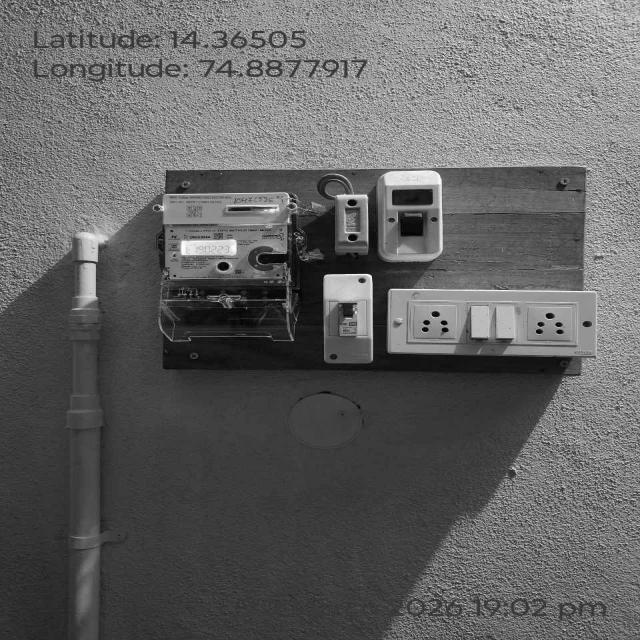meter: (165, 190, 296, 283)
